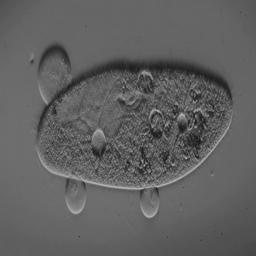Paramecium: (35, 65, 234, 192)
